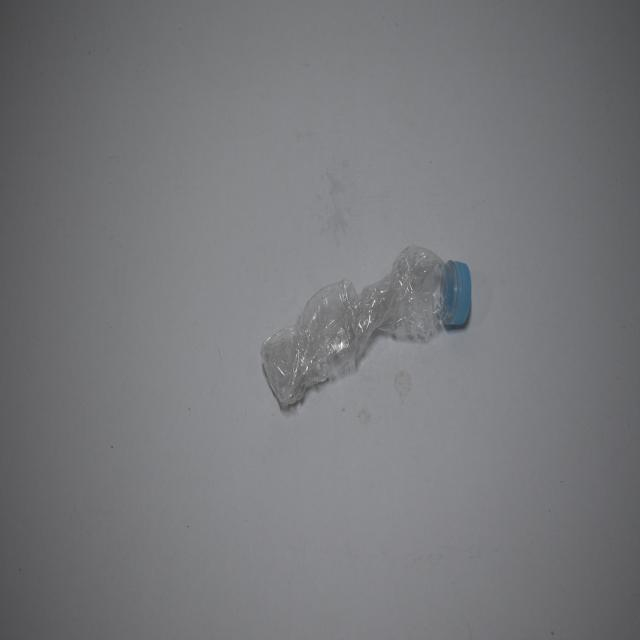bottle: (258, 224, 483, 424)
